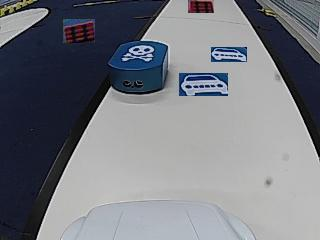danger: (122, 44, 152, 61)
